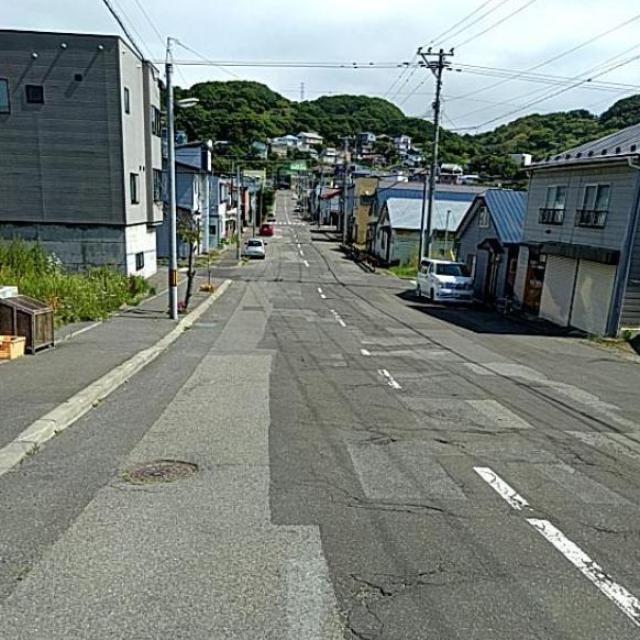Sambungan: (0, 350, 352, 640)
